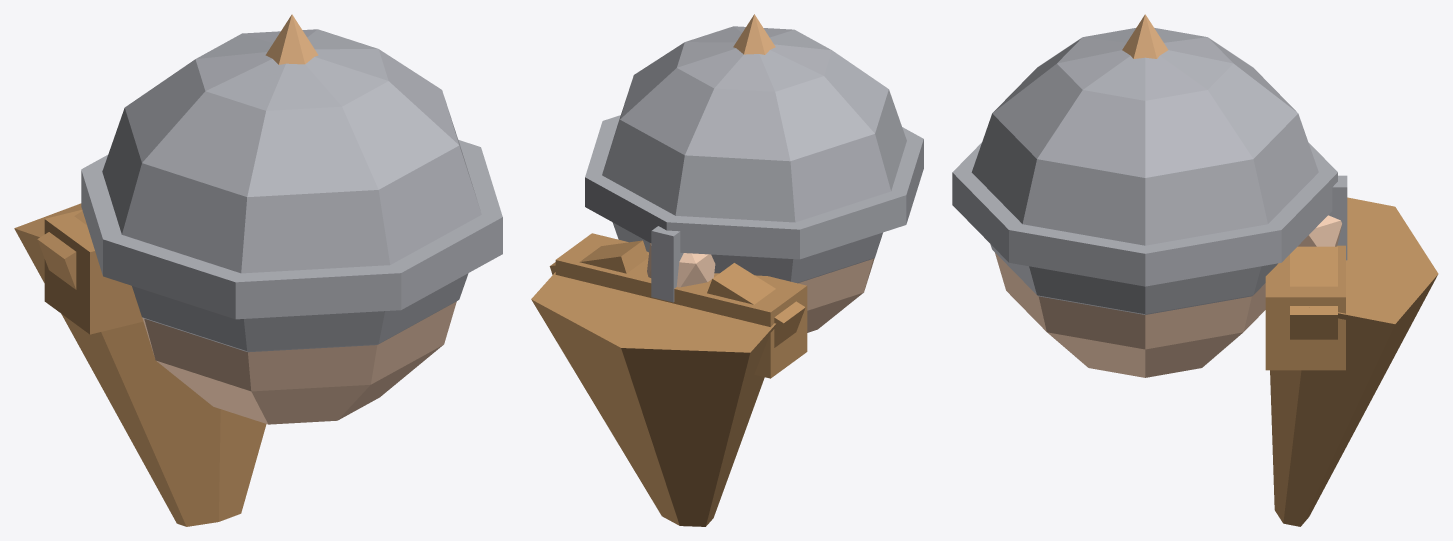
The model's file is dwarf_head.glb.
3 views of the same model, side by side, from view 1: azimuth 30°, elevation 25°; view 2: azimuth 150°, elevation 25°; view 3: azimuth 270°, elevation 25° (orthographic). The views are drawn at different scales.
Visible parts, largest first — view 1: DwarfHead; view 2: DwarfHead; view 3: DwarfHead.
Part boxes in pixels (box(x1,y1,x2,y2)): DwarfHead: box(14, 14, 502, 526); DwarfHead: box(531, 14, 923, 526); DwarfHead: box(952, 14, 1438, 526).
Size of the model in its own units: 0.48 by 0.6906 by 0.605.
